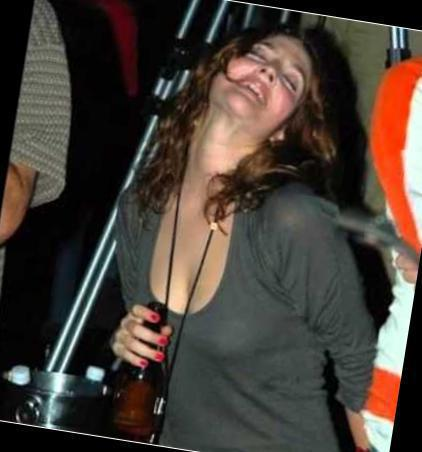Drunk: (218, 32, 301, 125)
